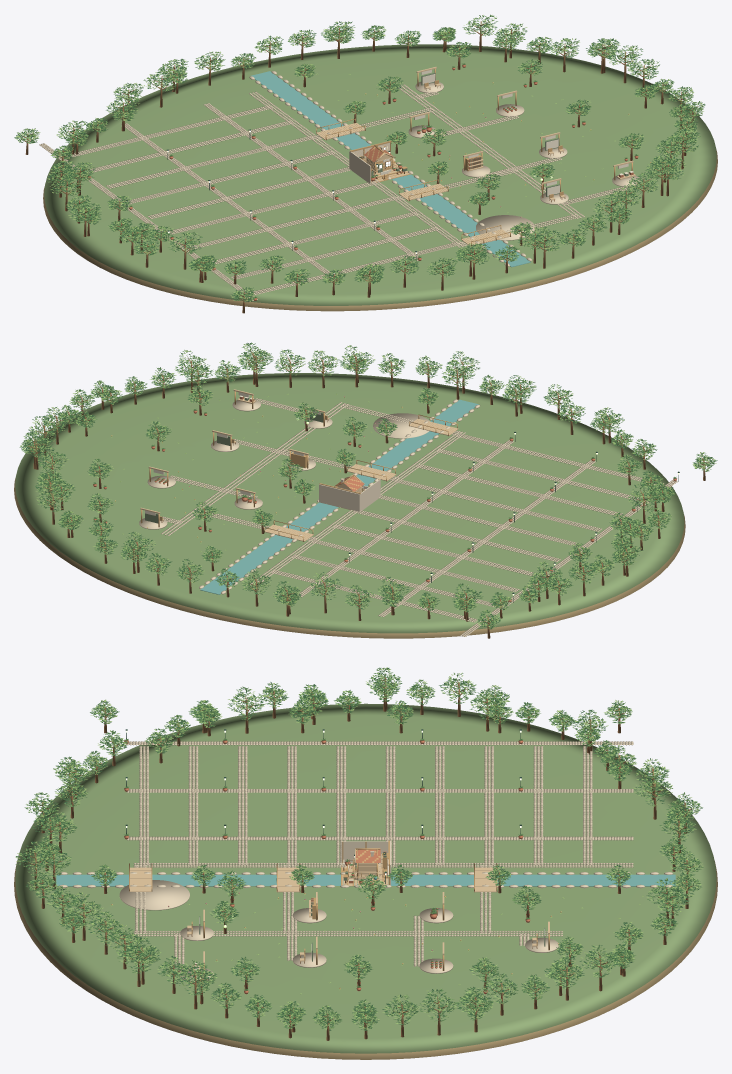
Rendered from forest.glb.
3 views of the same model, one above another, from view 1: azimuth 30°, elevation 25°; view 2: azimuth 150°, elevation 25°; view 3: azimuth 270°, elevation 25° (orthographic). The views are drawn at different scales.
Parts seen in each view (by area): view 1: Terrain_grass, ResidentialPaths_stone, Plants_leaf, Plants_leaflight, Plants_leafdark, Plants_bark, Terrain_earth, Creek_water, Creek_stone, PublicPaths_stone, Bridges_lightwood, Bridges_stone (+2 smaller); view 2: Terrain_grass, Plants_leaflight, Plants_leafdark, Plants_leaf, ResidentialPaths_stone, Plants_bark, Terrain_earth, Creek_water, Creek_stone, PublicPaths_stone, Bridges_lightwood, HomeShell_cream (+2 smaller); view 3: Terrain_grass, ResidentialPaths_stone, Plants_leaf, Plants_leaflight, Plants_leafdark, Plants_bark, Terrain_earth, Creek_water, PublicPaths_stone, Creek_stone, Bridges_lightwood, Plaza_stone (+2 smaller).
Part boxes in pixels (left/top/right/bottom): Terrain_grass: left=44, top=44, right=716, bottom=305; ResidentialPaths_stone: left=39, top=91, right=466, bottom=300; Plants_leaf: left=14, top=14, right=704, bottom=301; Plants_leaflight: left=16, top=15, right=703, bottom=301; Plants_leafdark: left=14, top=15, right=705, bottom=302; Plants_bark: left=22, top=21, right=698, bottom=313; Terrain_earth: left=43, top=150, right=717, bottom=311; Creek_water: left=251, top=71, right=530, bottom=267; Creek_stone: left=249, top=71, right=531, bottom=266; PublicPaths_stone: left=398, top=84, right=584, bottom=218; Bridges_lightwood: left=316, top=123, right=511, bottom=246; Bridges_stone: left=313, top=107, right=579, bottom=245; Terrain_grass: left=15, top=373, right=684, bottom=633; Plants_leaflight: left=20, top=343, right=716, bottom=628; Plants_leafdark: left=20, top=342, right=717, bottom=629; Plants_leaf: left=19, top=343, right=715, bottom=629; ResidentialPaths_stone: left=250, top=431, right=677, bottom=636; Plants_bark: left=27, top=350, right=708, bottom=638; Terrain_earth: left=14, top=478, right=685, bottom=638; Creek_water: left=200, top=399, right=479, bottom=594; Creek_stone: left=199, top=399, right=480, bottom=594; PublicPaths_stone: left=161, top=402, right=348, bottom=535; Bridges_lightwood: left=265, top=419, right=458, bottom=541; HomeShell_cream: left=319, top=479, right=380, bottom=511; Terrain_grass: left=15, top=703, right=716, bottom=1053; ResidentialPaths_stone: left=126, top=741, right=633, bottom=867; Plants_leaf: left=15, top=668, right=703, bottom=1030; Plants_leaflight: left=15, top=667, right=703, bottom=1029; Plants_leafdark: left=16, top=667, right=702, bottom=1030; Plants_bark: left=24, top=677, right=694, bottom=1040; Terrain_earth: left=14, top=861, right=717, bottom=1059; Creek_water: left=56, top=874, right=675, bottom=886; PublicPaths_stone: left=133, top=931, right=563, bottom=936; Creek_stone: left=59, top=872, right=673, bottom=888; Bridges_lightwood: left=129, top=867, right=496, bottom=892; Plaza_stone: left=119, top=880, right=189, bottom=910.
Size of the model in its own units: 118 by 9.7 by 100.
